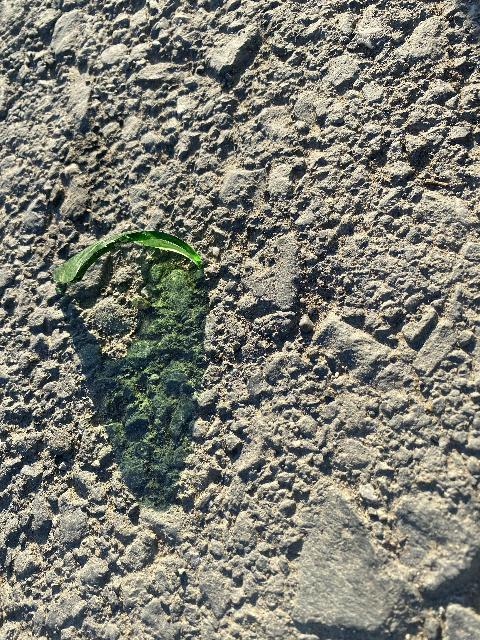Cam: (54, 216, 225, 294)
